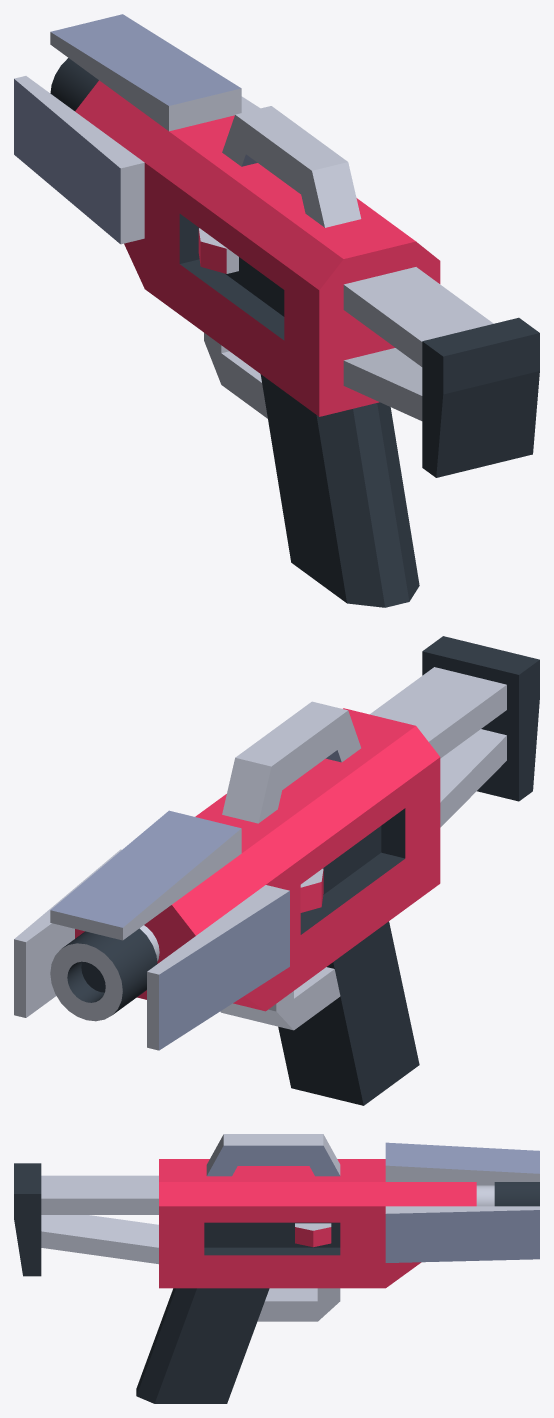
Rendered from blasterN.obj.
3 renders of one model, top to bottom at view 1: azimuth 30°, elevation 25°; view 2: azimuth 150°, elevation 25°; view 3: azimuth 270°, elevation 25°, orthographic. The views are drawn at different scales.
Visible parts, largest first — view 1: blasterN; view 2: blasterN; view 3: blasterN.
Part boxes in pixels (x1,y1,x2,y2): blasterN: [14, 14, 539, 607]; blasterN: [14, 636, 539, 1105]; blasterN: [14, 1134, 539, 1403].
Bounding box in the file's own units: 0.14 × 0.3075 × 0.58.
